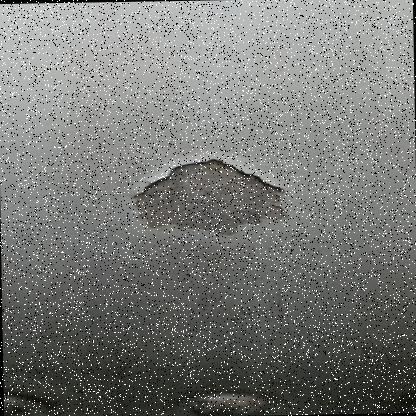Crack: (76, 140, 330, 266)
